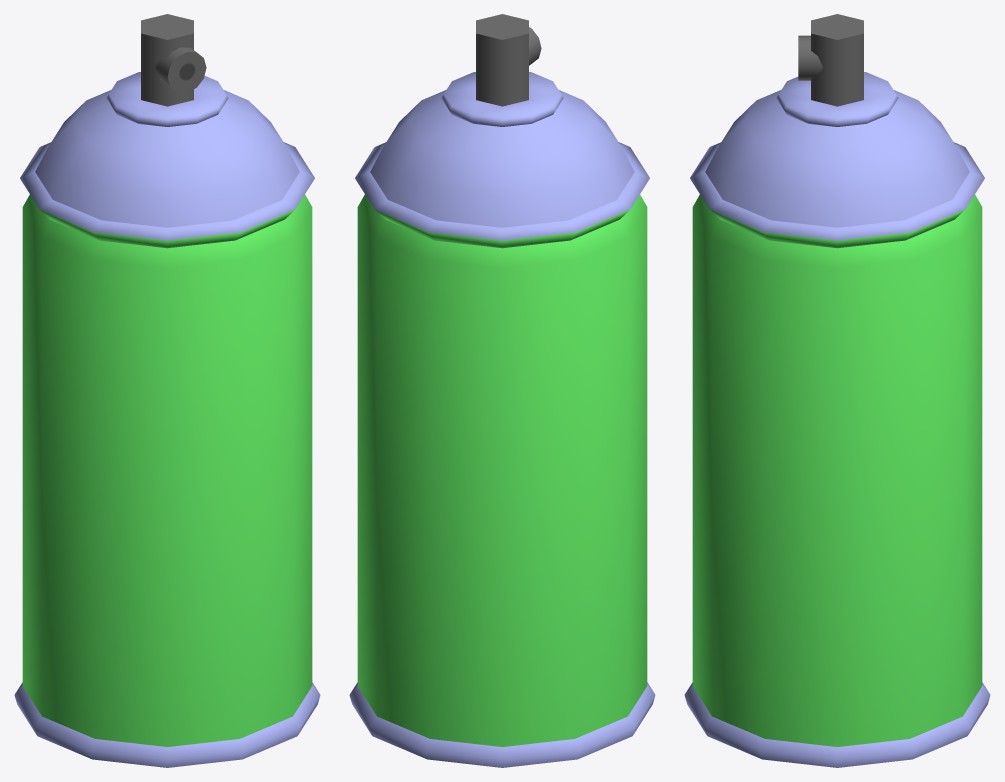
File: Spraycan.fbx
3 renders of one model, left to right at view 1: azimuth 30°, elevation 25°; view 2: azimuth 150°, elevation 25°; view 3: azimuth 270°, elevation 25°, orthographic.
Visible parts, largest first — view 1: Cylinder004; view 2: Cylinder004; view 3: Cylinder004.
Part boxes in pixels (x1,y1,x2,y2): Cylinder004: (14,14,320,767); Cylinder004: (349,14,655,767); Cylinder004: (684,14,990,767).
Bounding box in the file's own units: 9.39 × 22.94 × 9.39.
1 material, 1 textured.
